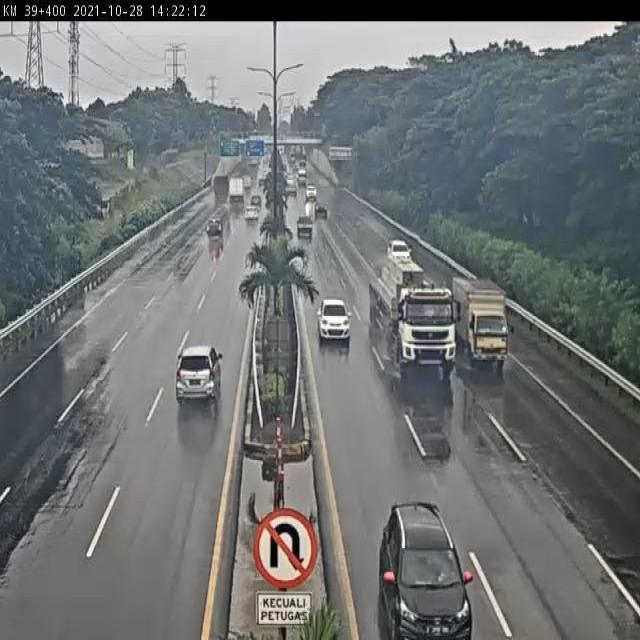car: (375, 501, 478, 640), (175, 346, 224, 410), (317, 296, 354, 344), (204, 215, 225, 241)
truck-s-: (453, 279, 514, 369)
truck-xl-: (370, 256, 457, 380)
